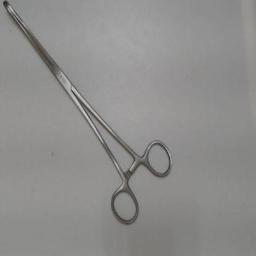Sponge Forceps: (3, 0, 177, 230)
